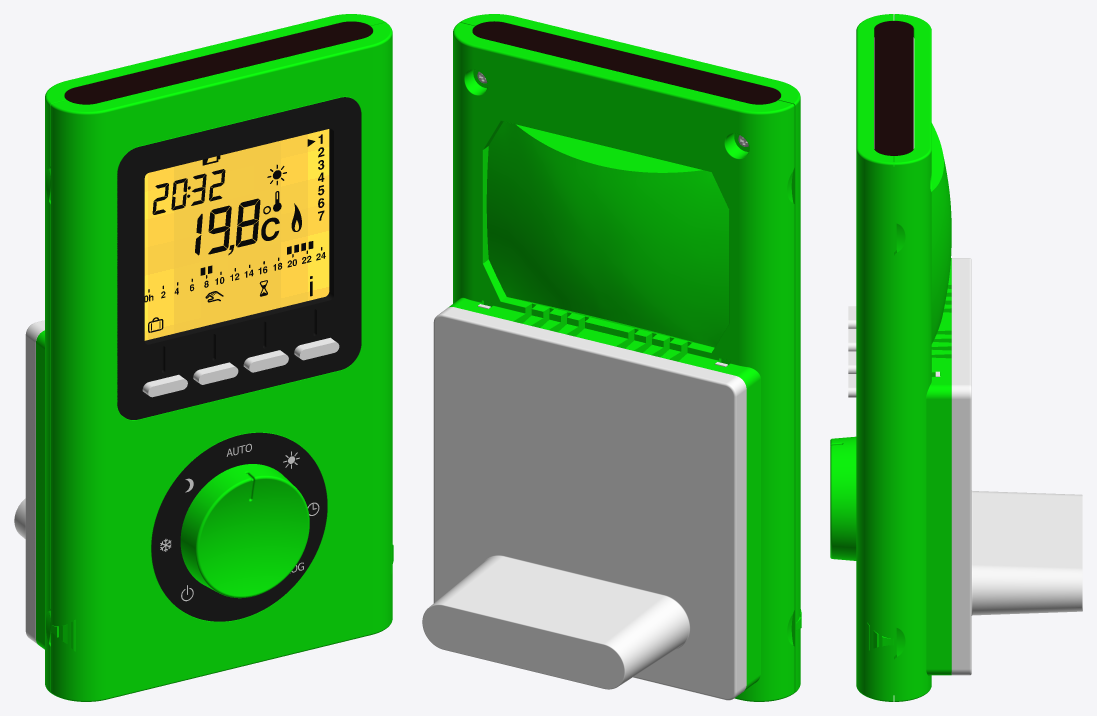
3 renders of one model, left to right at view 1: azimuth 30°, elevation 25°; view 2: azimuth 150°, elevation 25°; view 3: azimuth 270°, elevation 25°, orthographic. The views are drawn at different scales.
Visible parts, largest first — view 1: TTIR_obudowa, TTIR_ciemny_plastik, TTIR_lcd_tlo, TTIR_obudowa_emi, TTIR_lcd_symbols, TTIR_stopa, TTIR_przyciski; view 2: TTIR_obudowa, TTIR_stopa, TTIR_obudowa_emi; view 3: TTIR_obudowa, TTIR_stopa, TTIR_obudowa_emi, TTIR_przyciski.
Part boxes in pixels (<box>): TTIR_obudowa: <box>36,14,393,701</box>; TTIR_ciemny_plastik: <box>117,97,361,621</box>; TTIR_lcd_tlo: <box>144,129,329,340</box>; TTIR_obudowa_emi: <box>64,21,372,461</box>; TTIR_lcd_symbols: <box>144,134,325,332</box>; TTIR_stopa: <box>14,320,44,644</box>; TTIR_przyciski: <box>142,337,339,397</box>; TTIR_obudowa: <box>448,14,801,701</box>; TTIR_stopa: <box>422,304,746,700</box>; TTIR_obudowa_emi: <box>472,21,780,104</box>; TTIR_obudowa: <box>830,14,951,701</box>; TTIR_stopa: <box>935,258,1082,675</box>; TTIR_obudowa_emi: <box>874,21,913,155</box>; TTIR_przyciski: <box>848,306,856,397</box>.
Bounding box in the file's own units: 8 × 13.4 × 5.68.
10 materials, 10 textured.
